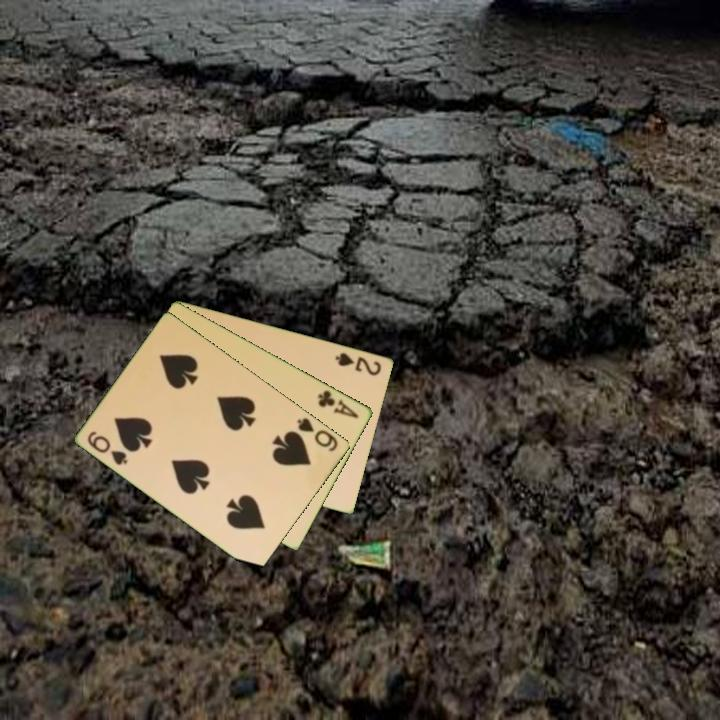2s: (332, 349, 384, 378)
6s: (294, 414, 341, 454), (84, 428, 131, 468)
Ac: (314, 386, 362, 421)
